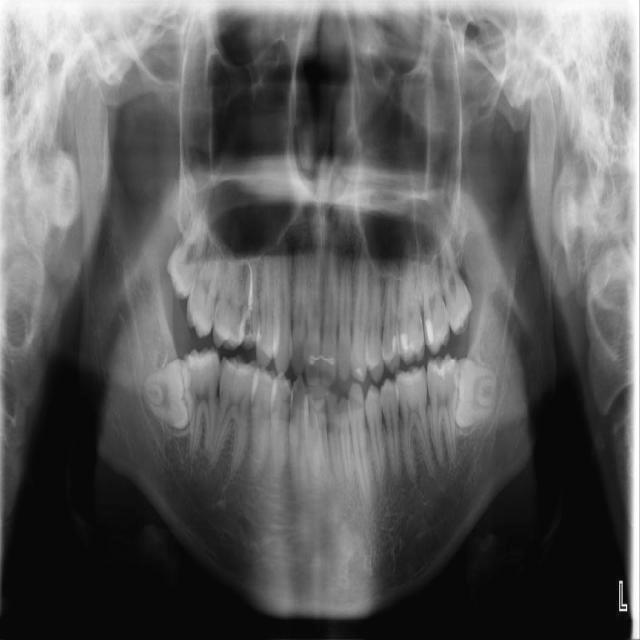Filling: (423, 303, 450, 354), (238, 316, 261, 350), (401, 329, 424, 363), (428, 355, 457, 381), (384, 333, 399, 366)
Root Canal Treatment: (248, 264, 255, 308)
impacted tooth: (167, 197, 206, 300), (140, 360, 188, 429), (453, 360, 499, 429)
